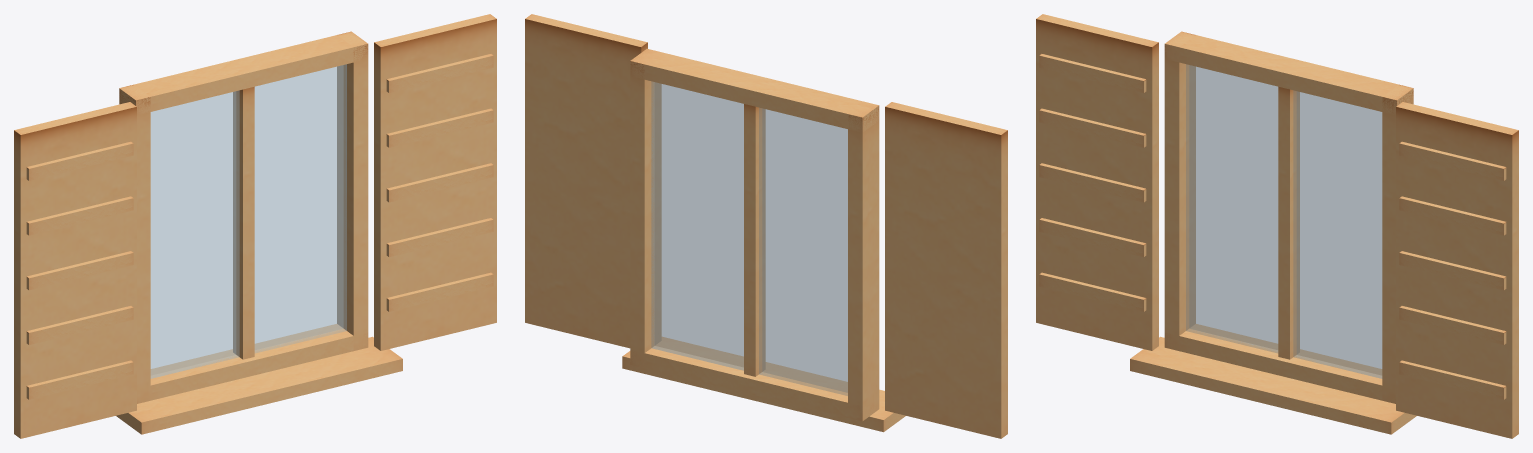
The model's file is Window_Shutters.fbx.
3 renders of one model, left to right at view 1: azimuth 30°, elevation 25°; view 2: azimuth 150°, elevation 25°; view 3: azimuth 330°, elevation 25°, orthographic.
Visible parts, largest first — view 1: Window_Shutters; view 2: Window_Shutters; view 3: Window_Shutters.
Part boxes in pixels (x1,y1,x2,y2): Window_Shutters: (14,14,496,438); Window_Shutters: (525,14,1007,438); Window_Shutters: (1036,14,1518,438).
Size of the model in its own units: 1.64 by 1.04 by 0.22.
